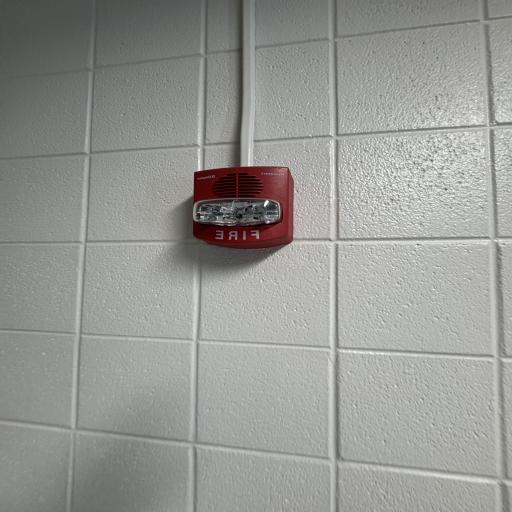fire alarm signal: (175, 163, 305, 254)
